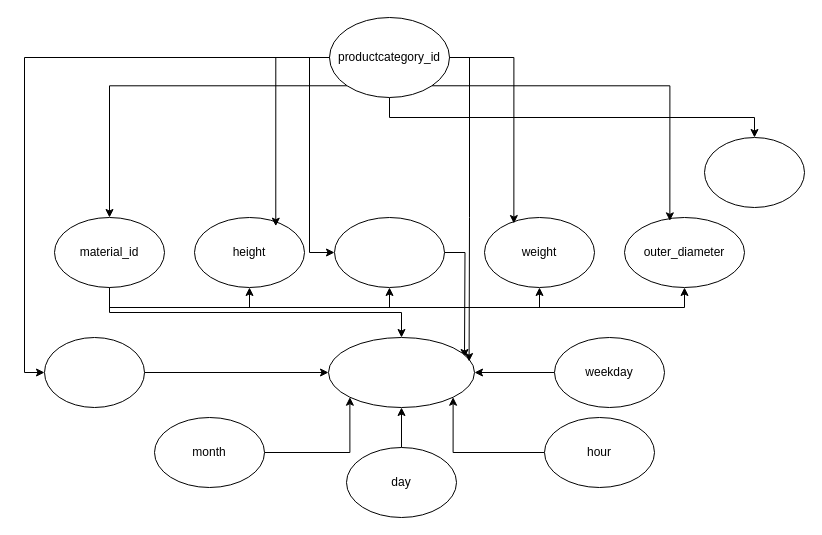
This 822x535 diagram has some shape labels left out. The centre of each missing label's shape, as x and y in pixels:
"heattreatmentcategory_id" goes at (389,252).
"product_id" goes at (754,172).
"value" goes at (401,372).
"workplace_id" goes at (94,372).
